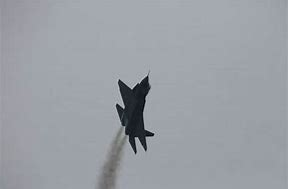smoke: (96, 122, 128, 189)
